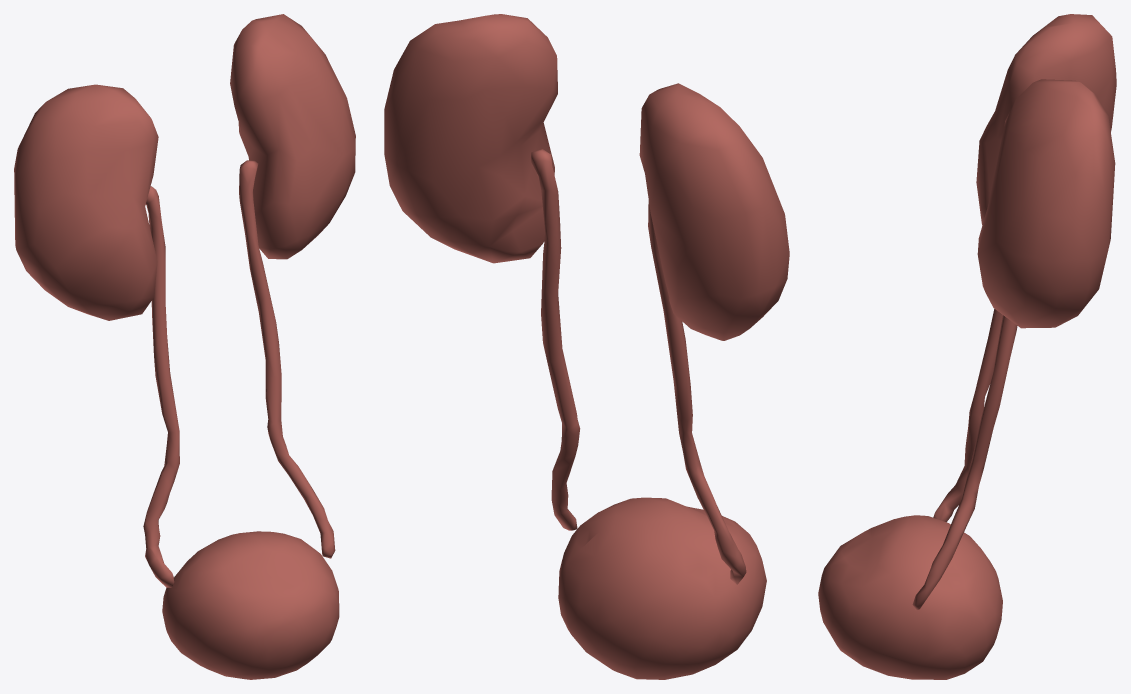
File: pediatric_child_5y_female.urinary.LOD1.glb
3 views of the same model, side by side, from view 1: azimuth 30°, elevation 25°; view 2: azimuth 150°, elevation 25°; view 3: azimuth 270°, elevation 25° (orthographic). The views are drawn at different scales.
Visible parts, largest first — view 1: PEDIATRIC.CHILD_5Y.FEMALE.URINARY.KIDNEY_CORTEX.R, PEDIATRIC.CHILD_5Y.FEMALE.URINARY.KIDNEY_CORTEX.L, PEDIATRIC.CHILD_5Y.FEMALE.URINARY.URINARY_BLADDER_WALL, PEDIATRIC.CHILD_5Y.FEMALE.URINARY.URETER.L, PEDIATRIC.CHILD_5Y.FEMALE.URINARY.URETER.R; view 2: PEDIATRIC.CHILD_5Y.FEMALE.URINARY.KIDNEY_CORTEX.L, PEDIATRIC.CHILD_5Y.FEMALE.URINARY.URINARY_BLADDER_WALL, PEDIATRIC.CHILD_5Y.FEMALE.URINARY.KIDNEY_CORTEX.R, PEDIATRIC.CHILD_5Y.FEMALE.URINARY.URETER.L, PEDIATRIC.CHILD_5Y.FEMALE.URINARY.URETER.R; view 3: PEDIATRIC.CHILD_5Y.FEMALE.URINARY.KIDNEY_CORTEX.L, PEDIATRIC.CHILD_5Y.FEMALE.URINARY.URINARY_BLADDER_WALL, PEDIATRIC.CHILD_5Y.FEMALE.URINARY.KIDNEY_CORTEX.R, PEDIATRIC.CHILD_5Y.FEMALE.URINARY.URETER.L, PEDIATRIC.CHILD_5Y.FEMALE.URINARY.URETER.R.
Boxes of the visible parts, x1,y1,x2,y2 form: PEDIATRIC.CHILD_5Y.FEMALE.URINARY.KIDNEY_CORTEX.R: (14, 84, 158, 320); PEDIATRIC.CHILD_5Y.FEMALE.URINARY.KIDNEY_CORTEX.L: (230, 14, 355, 259); PEDIATRIC.CHILD_5Y.FEMALE.URINARY.URINARY_BLADDER_WALL: (162, 531, 339, 679); PEDIATRIC.CHILD_5Y.FEMALE.URINARY.URETER.L: (239, 160, 335, 558); PEDIATRIC.CHILD_5Y.FEMALE.URINARY.URETER.R: (143, 186, 179, 587); PEDIATRIC.CHILD_5Y.FEMALE.URINARY.KIDNEY_CORTEX.L: (384, 14, 557, 263); PEDIATRIC.CHILD_5Y.FEMALE.URINARY.URINARY_BLADDER_WALL: (558, 497, 766, 679); PEDIATRIC.CHILD_5Y.FEMALE.URINARY.KIDNEY_CORTEX.R: (639, 83, 789, 340); PEDIATRIC.CHILD_5Y.FEMALE.URINARY.URETER.L: (531, 149, 580, 530); PEDIATRIC.CHILD_5Y.FEMALE.URINARY.URETER.R: (648, 200, 746, 584); PEDIATRIC.CHILD_5Y.FEMALE.URINARY.KIDNEY_CORTEX.L: (977, 79, 1115, 328); PEDIATRIC.CHILD_5Y.FEMALE.URINARY.URINARY_BLADDER_WALL: (818, 515, 1002, 679); PEDIATRIC.CHILD_5Y.FEMALE.URINARY.KIDNEY_CORTEX.R: (976, 14, 1116, 224); PEDIATRIC.CHILD_5Y.FEMALE.URINARY.URETER.L: (912, 315, 1017, 610); PEDIATRIC.CHILD_5Y.FEMALE.URINARY.URETER.R: (933, 309, 1002, 522).
Size of the model in its own units: 0.1235 by 0.2084 by 0.0895.
